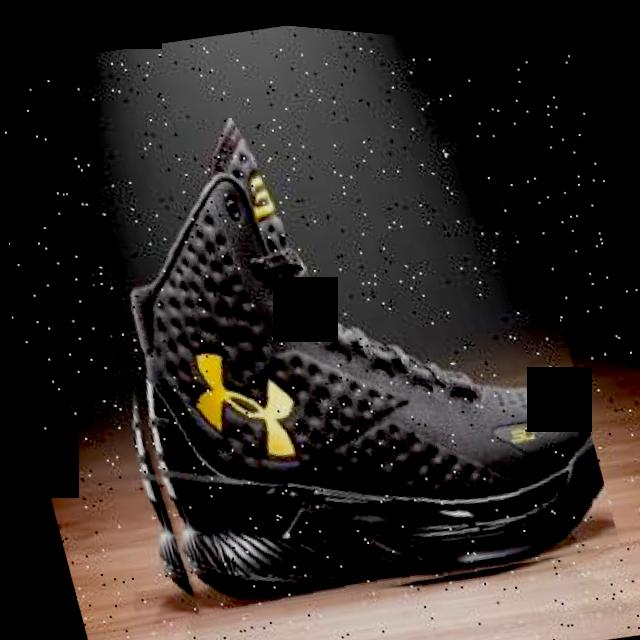shoe: (44, 38, 622, 640)
